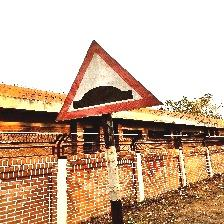Speed-breaker: (55, 40, 165, 121)
